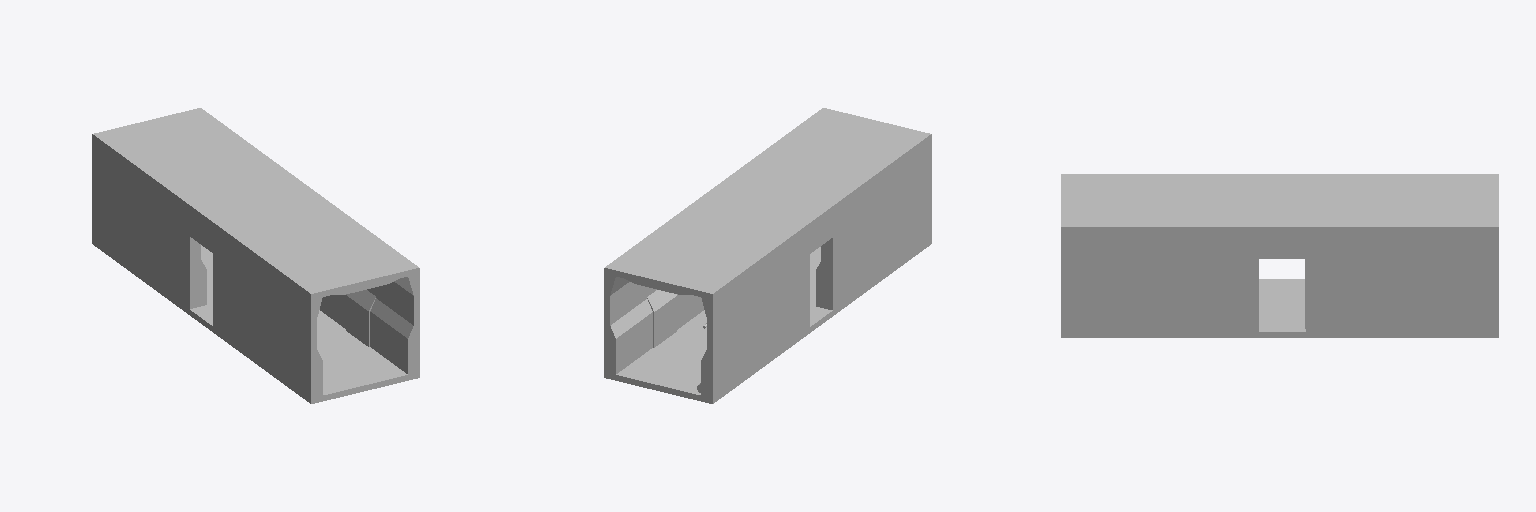
Rendered from corridor straight doors.obj.
3 renders of one model, left to right at view 1: azimuth 30°, elevation 25°; view 2: azimuth 150°, elevation 25°; view 3: azimuth 270°, elevation 25°, orthographic.
Visible parts, largest first — view 1: Part21, Part17, Part28, Part24, Part25, Part22, Part19, Part4, Part20, Part2; view 2: Part21, Part17, Part28, Part24, Part5, Part2, Part9, Part4, Part1, Part22; view 3: Part22, Part2, Part21, Part24, Part10, Part17, Part28.
Part boxes in pixels (x1,y1,x2,y2): Part21: (99,109,413,298); Part17: (213,221,316,397); Part28: (92,133,194,308); Part24: (92,238,419,403); Part25: (320,295,413,374); Part22: (316,196,419,372); Part19: (346,295,369,346); Part4: (190,204,217,252); Part20: (370,298,413,338); Part2: (196,108,295,178); Part21: (610,109,924,298); Part17: (827,133,931,309); Part28: (707,222,809,397); Part24: (604,238,931,403); Part5: (610,294,703,374); Part2: (604,197,705,372); Part9: (653,296,676,347); Part4: (804,205,832,253); Part1: (610,299,652,338); Part22: (725,108,827,180); Part22: (1061,224,1258,331); Part2: (1306,224,1498,331); Part21: (1061,177,1498,223); Part24: (1061,279,1498,337); Part10: (1259,224,1305,258); Part17: (1061,174,1258,176); Part28: (1305,174,1498,176).
Bounding box in the file's own units: 19 × 18.5 × 66.5.